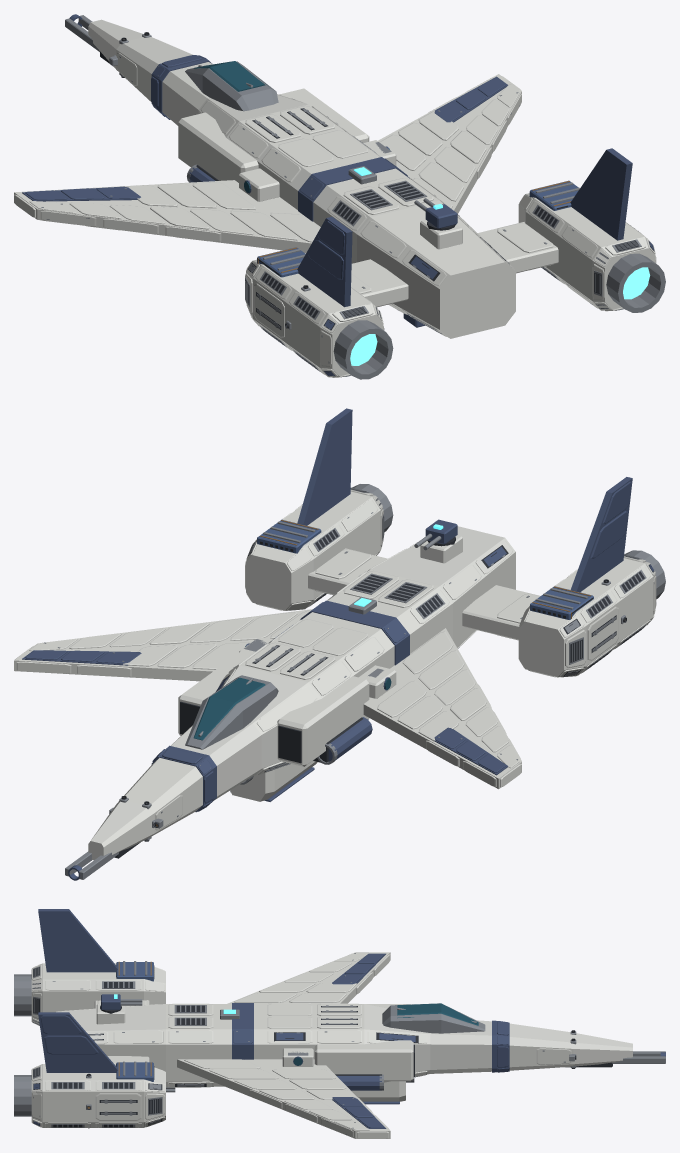
File: interceptor_t4.glb
3 views of the same model, one above another, from view 1: azimuth 30°, elevation 25°; view 2: azimuth 150°, elevation 25°; view 3: azimuth 270°, elevation 25° (orthographic). The views are drawn at different scales.
Visible parts, largest first — view 1: FleetHull, mesh_pd_yaw_1; view 2: FleetHull; view 3: FleetHull.
Boxes of the visible parts, bbox=[...] form: FleetHull: bbox=[14, 14, 665, 379]; mesh_pd_yaw_1: bbox=[425, 204, 457, 228]; FleetHull: bbox=[14, 408, 665, 880]; FleetHull: bbox=[14, 909, 665, 1138].
Bounding box in the file's own units: 19.32 × 6.81 × 29.6.
